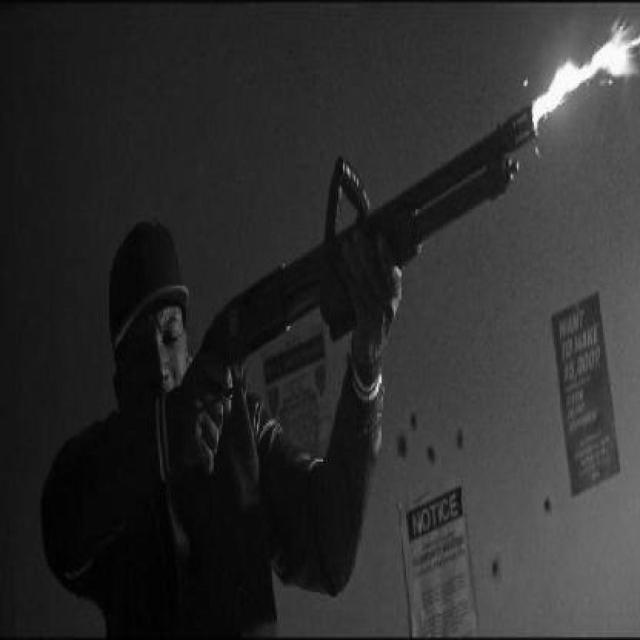weapon: (164, 102, 541, 440)
